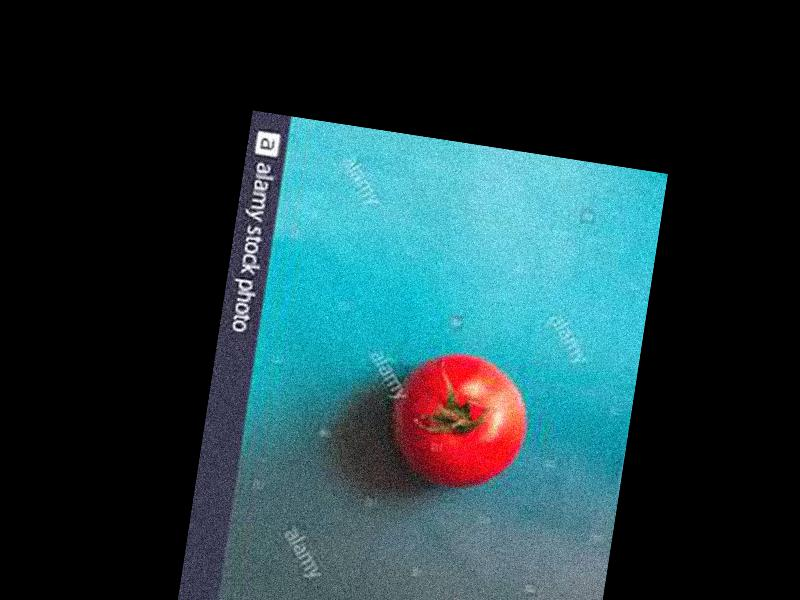Tomato: (382, 345, 536, 494)
